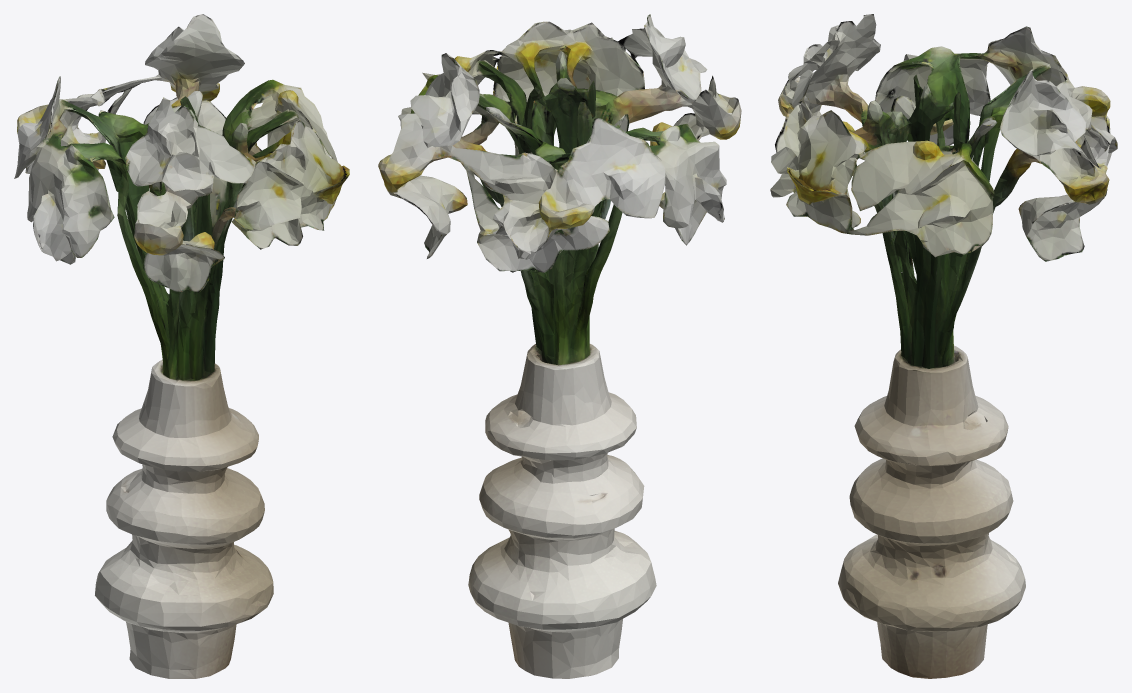
The picture shows the model from 3 angles, left to right: view 1: azimuth 30°, elevation 25°; view 2: azimuth 150°, elevation 25°; view 3: azimuth 270°, elevation 25°; orthographic projection. The views are drawn at different scales.
Parts seen in each view (by area): view 1: world; view 2: world; view 3: world.
Boxes of the visible parts, x1,y1,x2,y2 form: world: (14, 14, 349, 678); world: (378, 14, 741, 678); world: (770, 14, 1117, 678).
Size of the model in its own units: 0.5176 by 0.9999 by 0.5057.
Materials: 1 (1 with a texture image).
